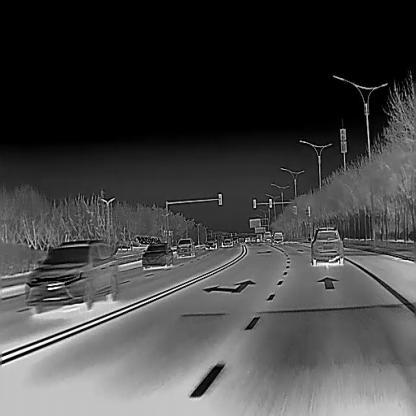car: (22, 239, 120, 312), (308, 226, 343, 265), (141, 242, 174, 267), (175, 237, 194, 258), (271, 231, 284, 245), (204, 238, 217, 250), (220, 235, 233, 247), (262, 231, 271, 242)
